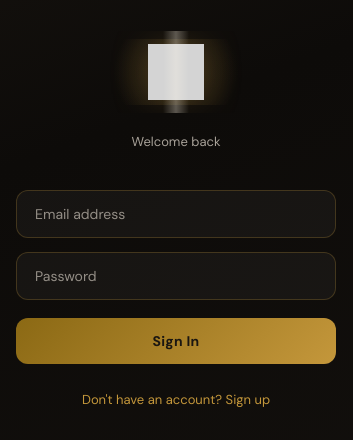
Test: AuthScreen › displays error message from login
Type "bad@example.com" into the field with placeholder "Email address" at (176, 214), box [16,190,336,238]
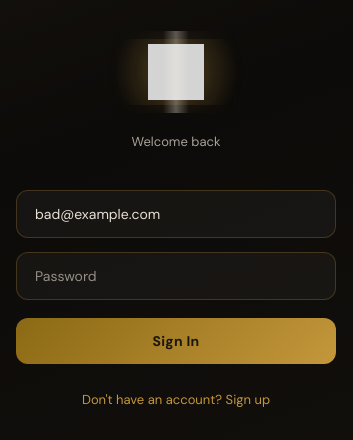
Type "wrongpass1" into the password field with placeholder "Password" at (176, 276), box [16,252,336,300]
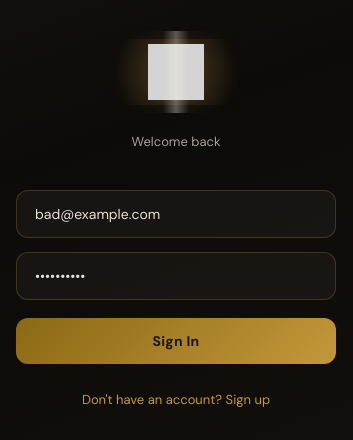
Click the button "Sign In" at (176, 341), box [16,318,336,364]
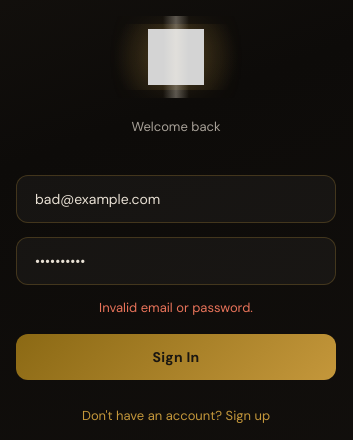
Result: the text "Invalid email or password." is shown at [99,298,253,316]
